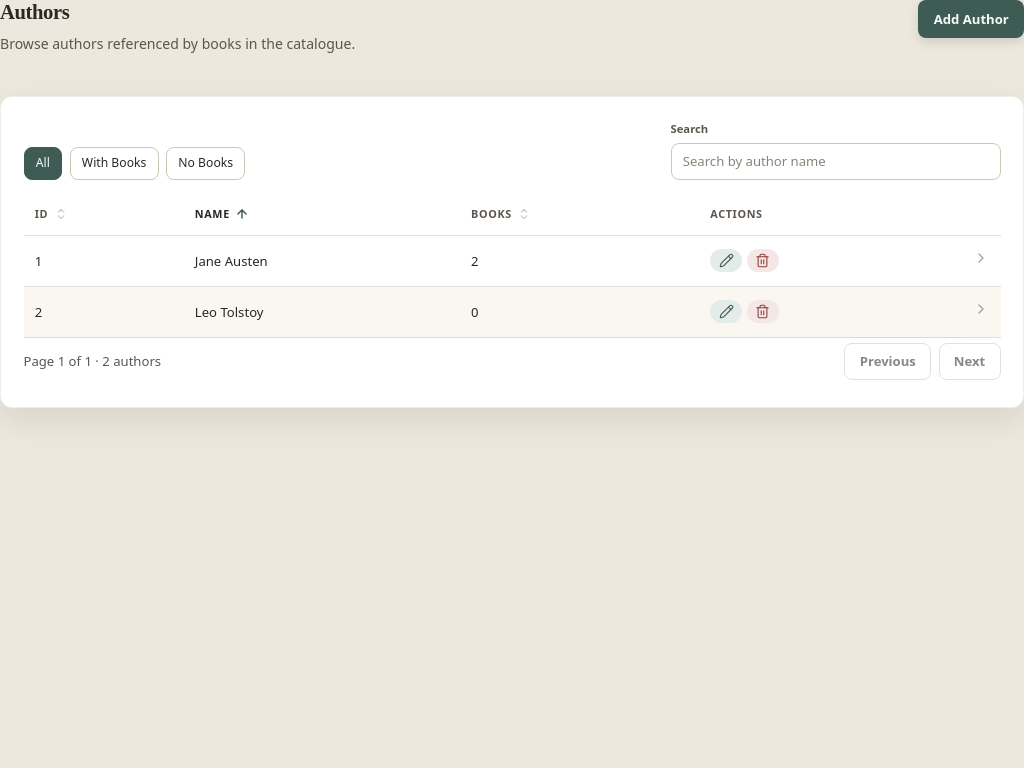
it: AuthorsPage › deletes an author with DELETE /authors/{id} and refetches
Click the button named "Delete Jane Austen": {"x": 763, "y": 260} [747, 249, 778, 272]
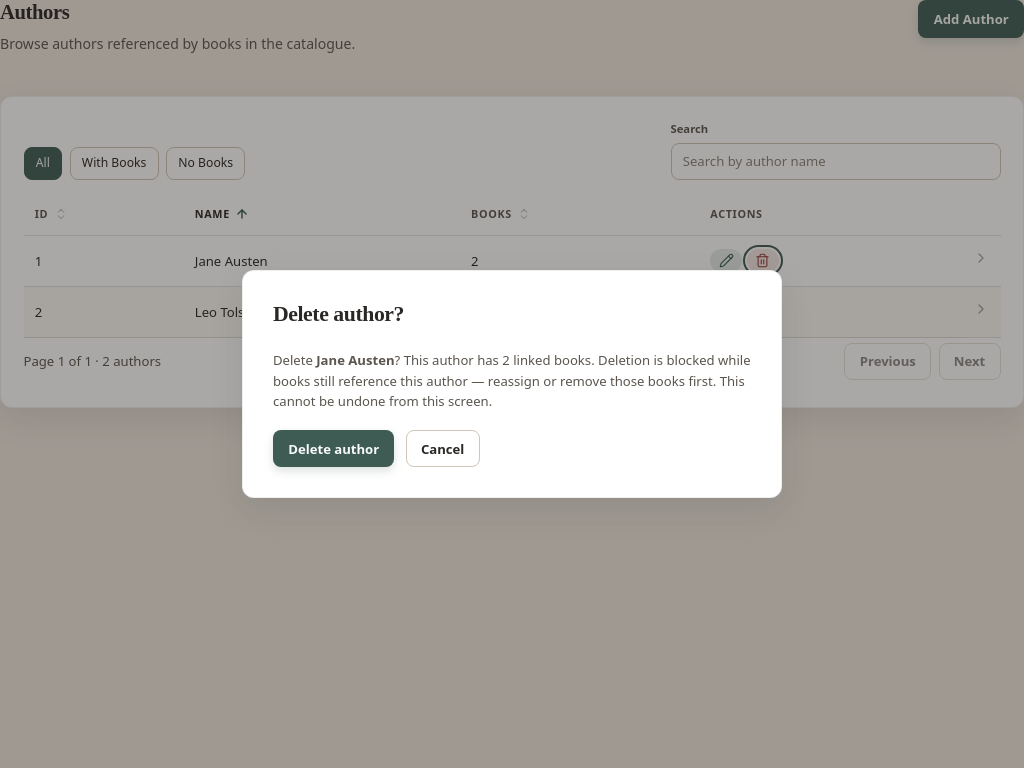
Expected: the heading "Delete author?" is shown, [273, 302, 404, 326]
Expected: the text "Jane Austen" is shown, [316, 351, 395, 369]
Expected: the text "2 linked books" is shown, [400, 351, 595, 369]
Click the button "Delete author": {"x": 334, "y": 449} [273, 430, 394, 468]
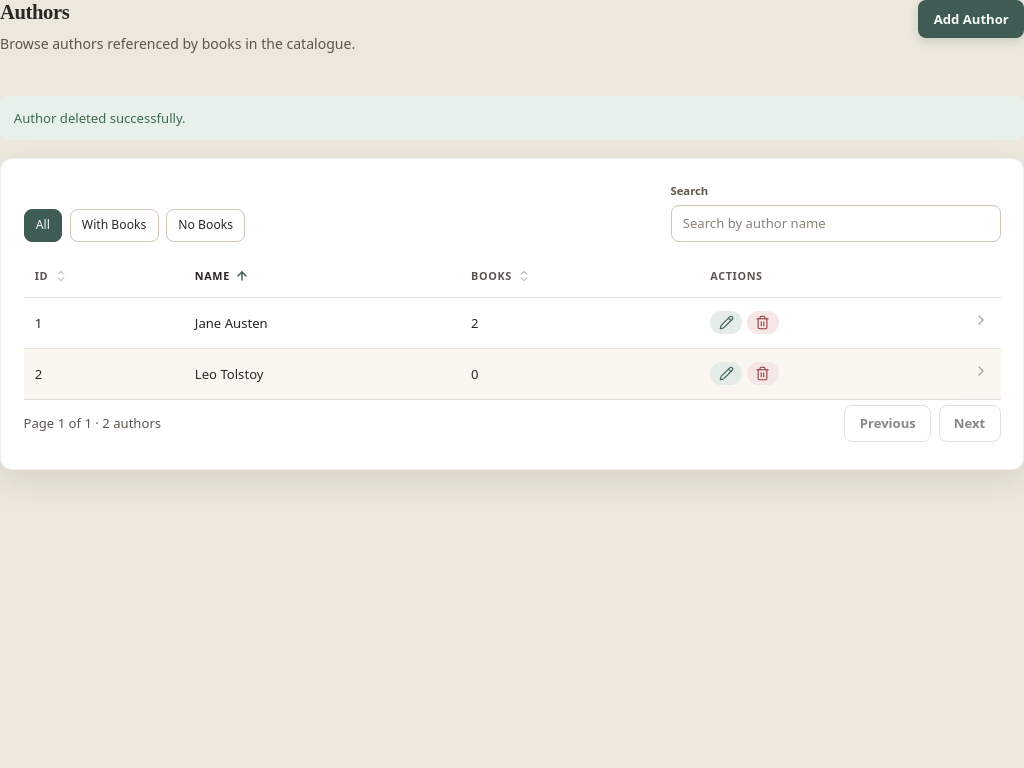
Expected: the text "Author deleted successfully." is shown, [0, 96, 1023, 140]
